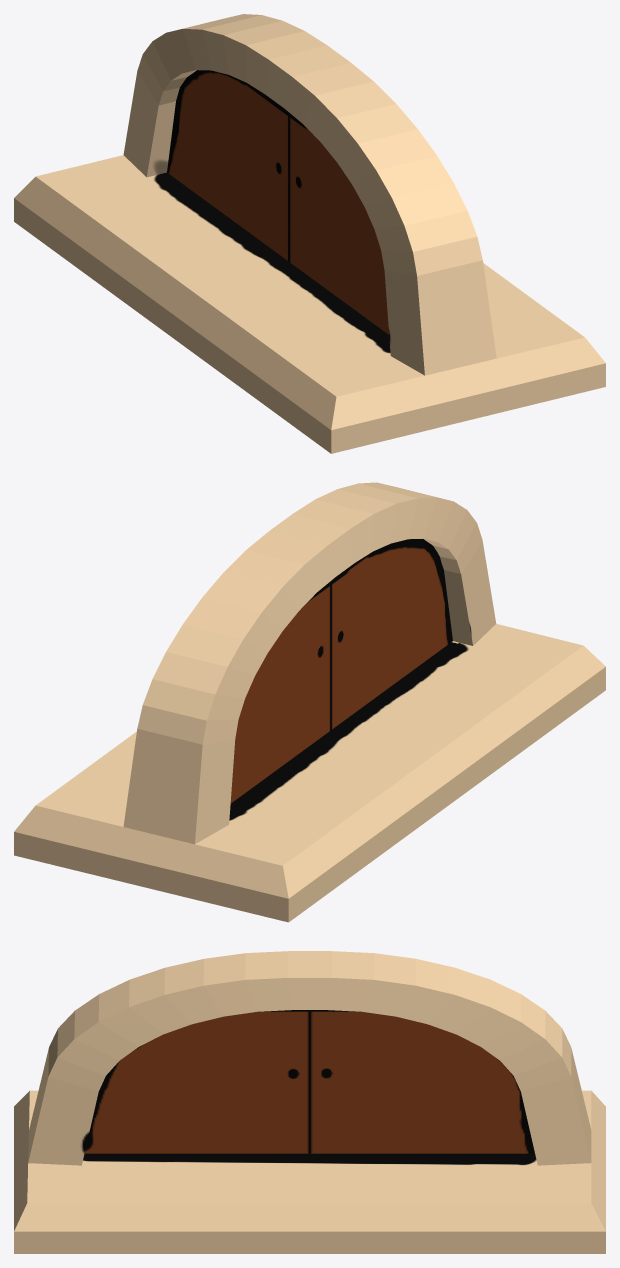
File: door_closed.glb
3 renders of one model, top to bottom at view 1: azimuth 30°, elevation 25°; view 2: azimuth 150°, elevation 25°; view 3: azimuth 270°, elevation 25°, orthographic. The views are drawn at different scales.
Visible parts, largest first — view 1: Cylinder, Cylinder.001; view 2: Cylinder, Cylinder.001; view 3: Cylinder, Cylinder.001.
Part boxes in pixels (x1,y1,x2,y2): Cylinder: [14, 14, 605, 453]; Cylinder.001: [167, 70, 388, 334]; Cylinder: [14, 482, 605, 922]; Cylinder.001: [230, 539, 452, 803]; Cylinder: [14, 951, 605, 1253]; Cylinder.001: [84, 1010, 534, 1153].
Size of the model in its own units: 1 by 0.8454 by 2.
1 material, 1 textured.
